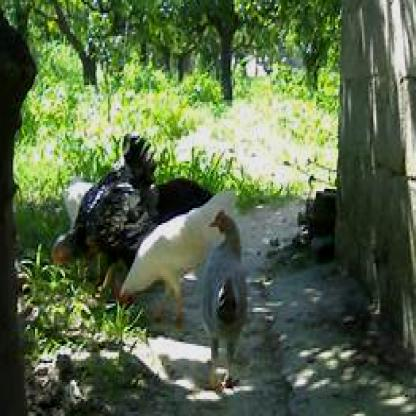chicken: (112, 185, 240, 329), (51, 127, 157, 272), (200, 206, 248, 390)
